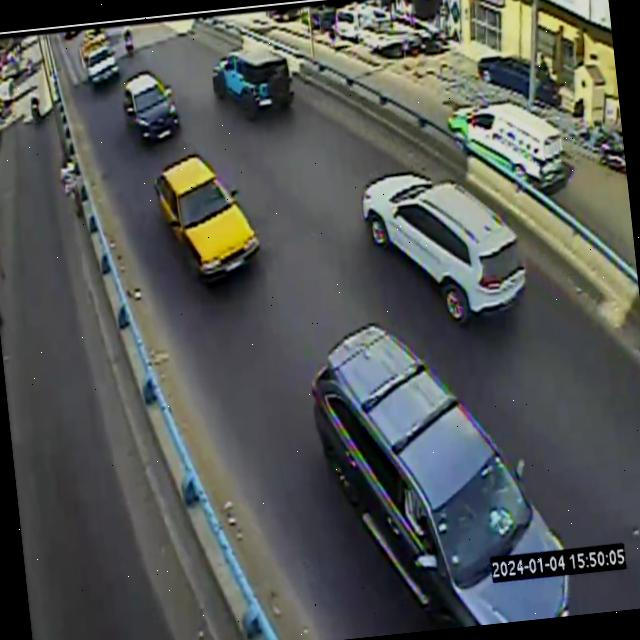car: (311, 324, 569, 627), (361, 172, 525, 321), (154, 154, 258, 278), (448, 102, 565, 190), (211, 48, 293, 119), (122, 72, 179, 138), (81, 40, 119, 84)
